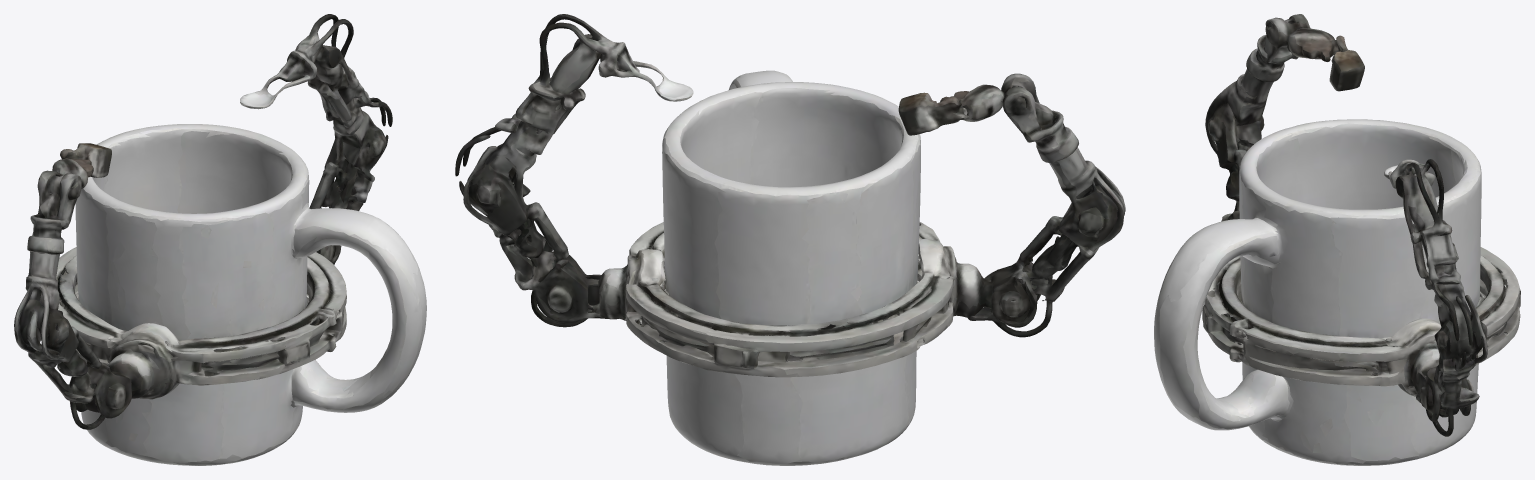
The picture shows the model from 3 angles, left to right: view 1: azimuth 30°, elevation 25°; view 2: azimuth 150°, elevation 25°; view 3: azimuth 270°, elevation 25°; orthographic projection. The views are drawn at different scales.
Parts seen in each view (by area): view 1: geometry_0; view 2: geometry_0; view 3: geometry_0.
Part boxes in pixels (x1=…): geometry_0: x1=14, y1=14, x2=426, y2=465; geometry_0: x1=455, y1=14, x2=1125, y2=465; geometry_0: x1=1154, y1=14, x2=1520, y2=465.
Size of the model in its own units: 0.1487 by 0.1 by 0.0956.
1 material, 1 textured.
